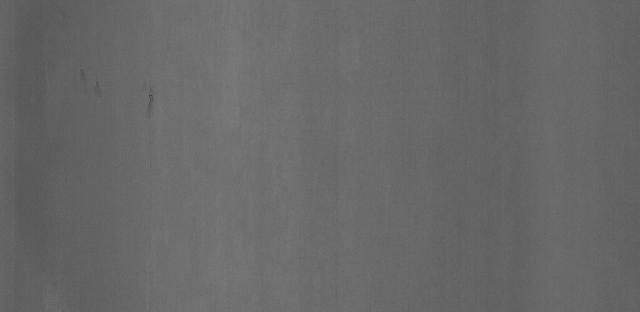water_spot: (134, 82, 172, 135), (72, 60, 107, 108)
